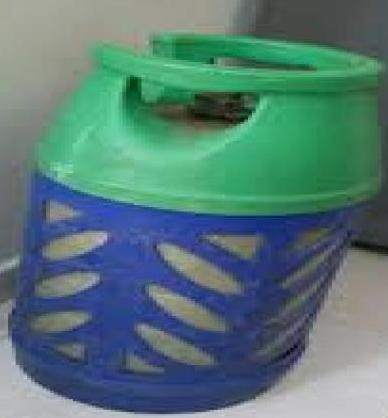cylinder: (0, 1, 388, 418)
